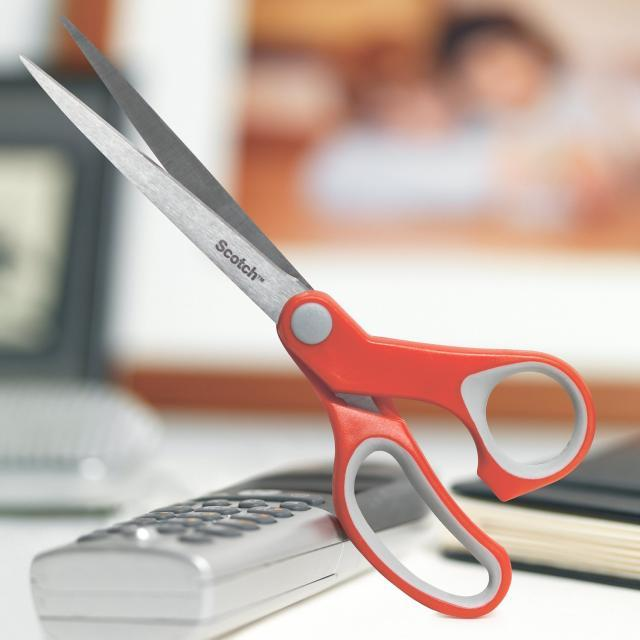tesoura: (7, 7, 609, 629)
